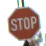stopsign: (7, 6, 42, 41)
